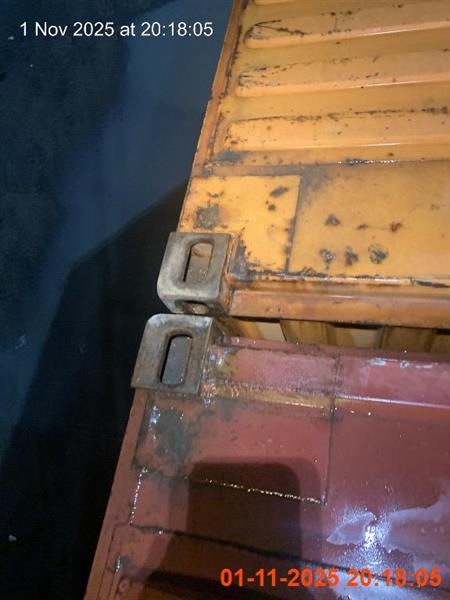broken: (83, 0, 444, 599), (86, 0, 238, 600)
